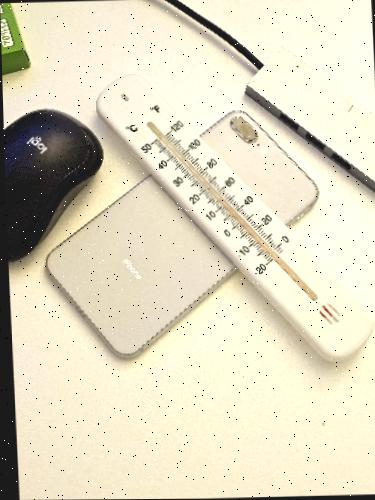thermo: (93, 66, 375, 362)
